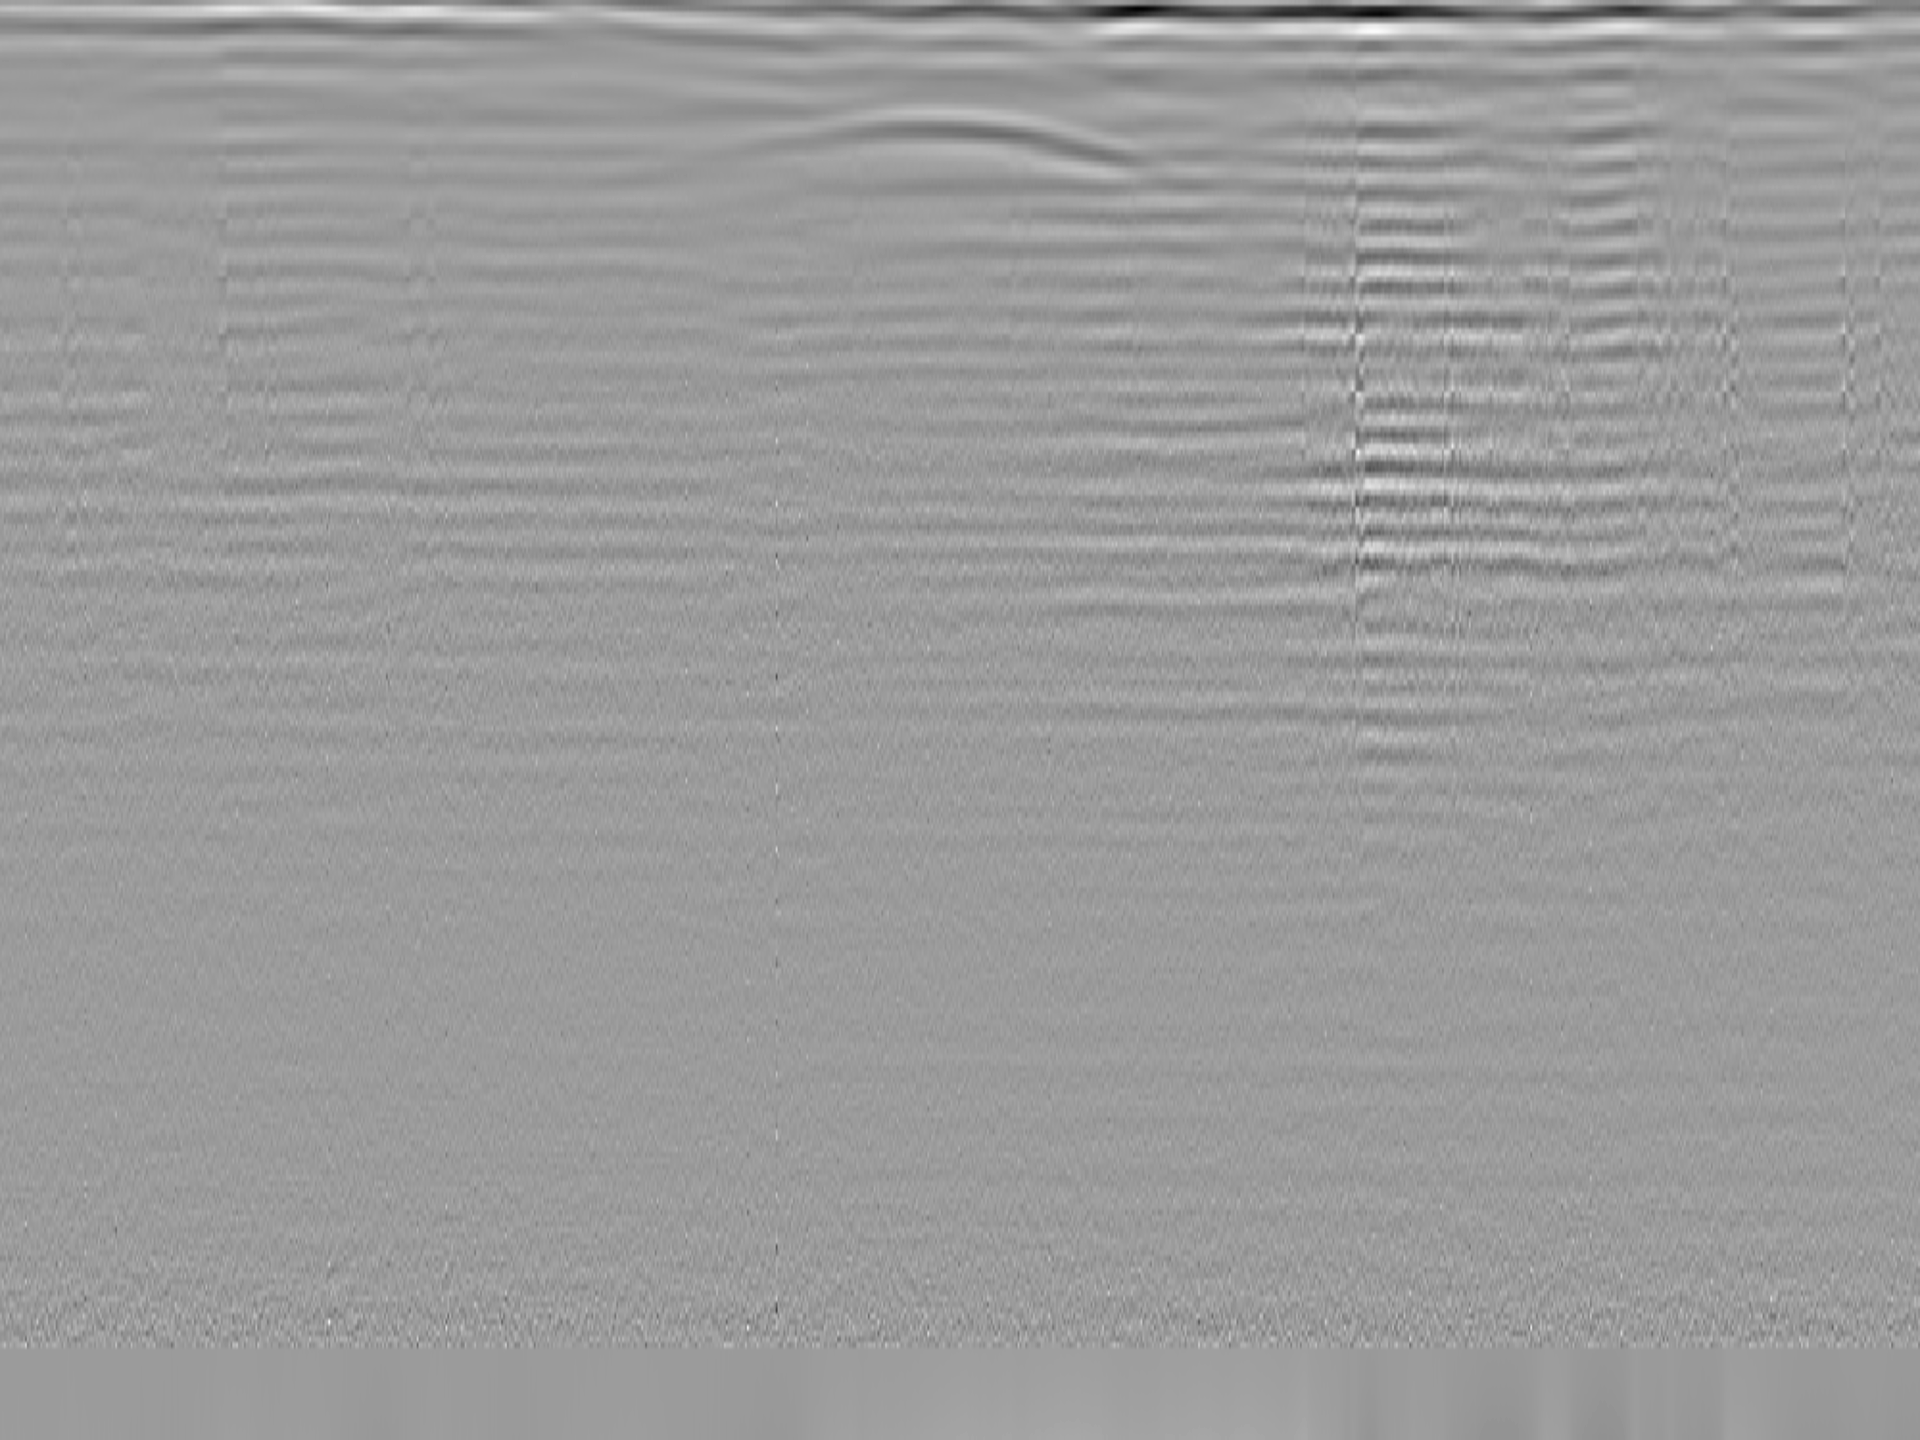Tunnel: (643, 104, 1193, 185)
